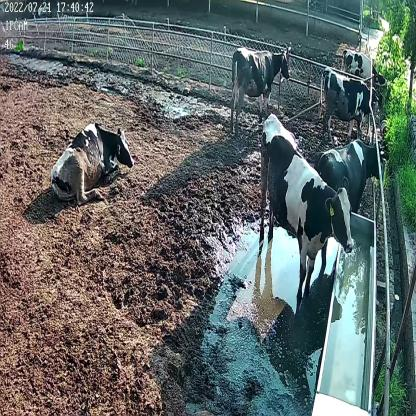cow: (259, 113, 353, 300), (51, 120, 135, 209), (232, 47, 292, 134), (316, 139, 386, 210), (320, 68, 377, 139), (341, 49, 386, 90)
